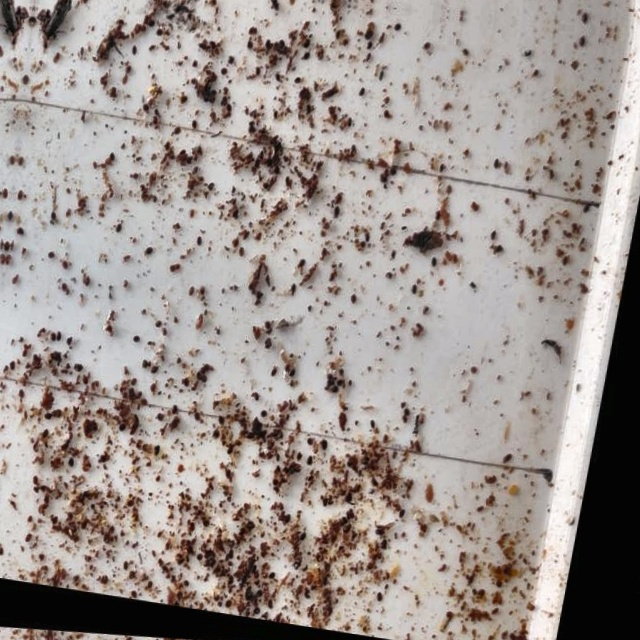varroa: (63, 264, 74, 279), (85, 280, 95, 296), (52, 55, 62, 71), (84, 379, 95, 393), (72, 462, 82, 477), (47, 433, 57, 448), (274, 368, 283, 384), (197, 237, 206, 253), (31, 537, 41, 551), (57, 334, 66, 349), (13, 363, 22, 378), (459, 48, 470, 60), (506, 454, 517, 466), (160, 417, 171, 429), (276, 42, 286, 55), (291, 368, 301, 381), (208, 186, 218, 199), (179, 98, 189, 111), (62, 289, 72, 302), (575, 35, 584, 49), (52, 339, 61, 353), (49, 256, 60, 267), (305, 534, 315, 546), (208, 522, 218, 534), (123, 427, 133, 439), (47, 417, 57, 429), (301, 454, 310, 467), (232, 578, 241, 591), (268, 342, 277, 355), (107, 580, 116, 593), (57, 520, 66, 533), (22, 394, 31, 407), (36, 481, 45, 494), (292, 286, 300, 300), (192, 169, 200, 183), (252, 524, 262, 535), (413, 286, 422, 298), (325, 442, 334, 454), (225, 106, 234, 118), (142, 106, 151, 118), (117, 228, 126, 240), (108, 156, 117, 168), (17, 162, 26, 174), (382, 111, 391, 123), (593, 184, 601, 197), (584, 202, 592, 215), (490, 231, 498, 244), (431, 257, 439, 270), (357, 88, 365, 101), (302, 40, 310, 53), (305, 107, 313, 120), (311, 457, 319, 470), (190, 291, 198, 304), (18, 196, 26, 209), (135, 339, 145, 349), (439, 165, 448, 176), (502, 579, 511, 590), (217, 433, 226, 444), (199, 375, 208, 386), (274, 574, 283, 585), (190, 124, 199, 135), (173, 130, 182, 141), (201, 289, 210, 300), (165, 144, 173, 156), (176, 409, 184, 421), (124, 70, 132, 82), (492, 160, 499, 173), (435, 213, 442, 226), (241, 252, 248, 265), (220, 99, 227, 112), (131, 50, 138, 63), (392, 25, 401, 35), (380, 178, 389, 188), (311, 441, 320, 451), (222, 420, 231, 430), (256, 570, 265, 580), (147, 251, 157, 260), (145, 364, 154, 374), (154, 585, 163, 595), (137, 595, 146, 605), (364, 44, 372, 55), (245, 43, 253, 54), (198, 416, 206, 427), (155, 369, 163, 380), (130, 566, 138, 577), (51, 217, 59, 228), (17, 234, 25, 245), (384, 594, 391, 606), (473, 576, 480, 588), (334, 31, 341, 43), (264, 42, 271, 54), (302, 262, 309, 274), (235, 553, 242, 565), (291, 519, 298, 531), (375, 422, 382, 434), (422, 43, 431, 52), (232, 605, 241, 614), (155, 34, 164, 43), (390, 170, 398, 180), (226, 59, 234, 69), (334, 389, 344, 397), (183, 595, 191, 605), (216, 562, 224, 572), (278, 482, 286, 492), (79, 580, 87, 590), (6, 248, 14, 258), (563, 258, 570, 269), (254, 70, 261, 81), (353, 296, 360, 307), (543, 231, 551, 240), (474, 368, 482, 377), (272, 5, 278, 17), (349, 529, 358, 537), (329, 376, 338, 384), (264, 414, 273, 422), (267, 325, 275, 334), (194, 528, 203, 536), (220, 598, 229, 606), (210, 565, 218, 574), (261, 611, 269, 620), (134, 383, 142, 392), (24, 81, 30, 93), (404, 511, 411, 521), (269, 2, 276, 12), (336, 210, 343, 220), (205, 378, 212, 388), (247, 579, 254, 589), (348, 119, 354, 130), (408, 412, 416, 420), (485, 591, 493, 599), (360, 243, 368, 251), (203, 558, 211, 566), (211, 555, 219, 563), (302, 55, 309, 64), (274, 78, 281, 87), (246, 531, 253, 540), (263, 593, 270, 602), (294, 80, 301, 88), (328, 502, 335, 510), (341, 382, 348, 390), (209, 368, 216, 376), (191, 584, 198, 592), (159, 325, 166, 333), (204, 371, 211, 378), (221, 72, 227, 80), (182, 607, 188, 612)
